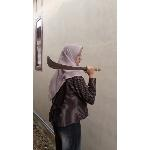Golok: (44, 54, 110, 74)
